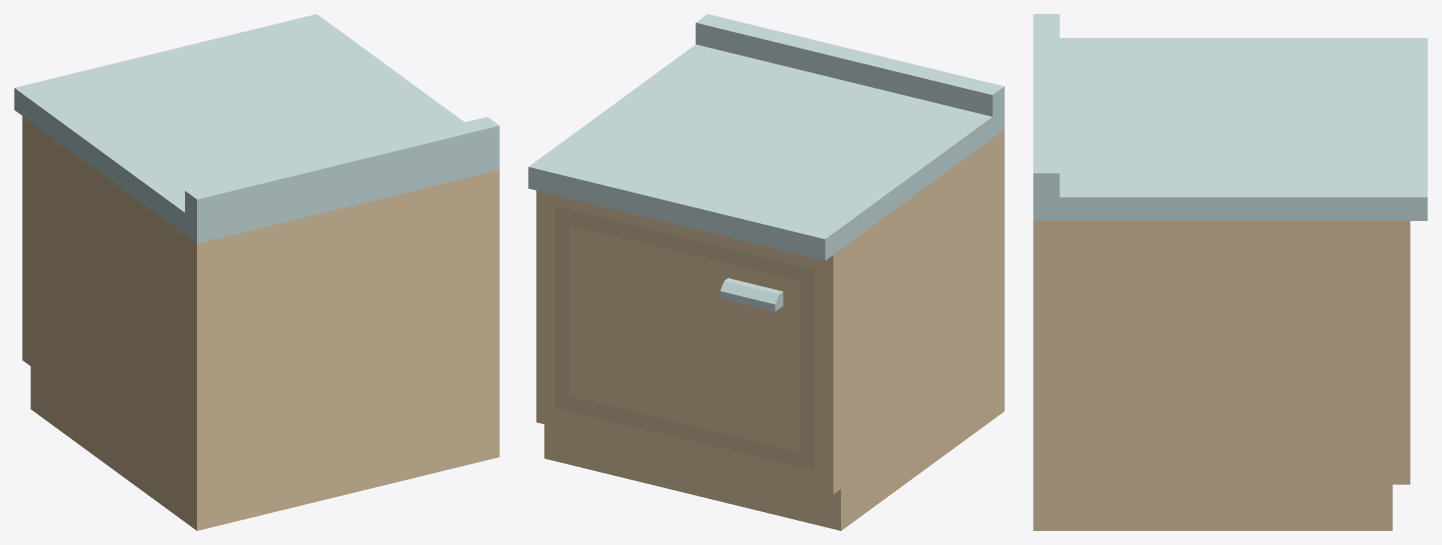
Rendered from kitchenCabinet.glb.
3 renders of one model, left to right at view 1: azimuth 30°, elevation 25°; view 2: azimuth 150°, elevation 25°; view 3: azimuth 270°, elevation 25°, orthographic. The views are drawn at different scales.
Parts seen in each view (by area): view 1: kitchenCabinet; view 2: kitchenCabinet; view 3: kitchenCabinet.
Part boxes in pixels (box(x1,y1,x2,y2)): kitchenCabinet: box(14, 14, 499, 530); kitchenCabinet: box(528, 14, 1004, 530); kitchenCabinet: box(1033, 14, 1427, 530).
Bounding box in the file's own units: 4.3 × 4.5 × 4.5.
